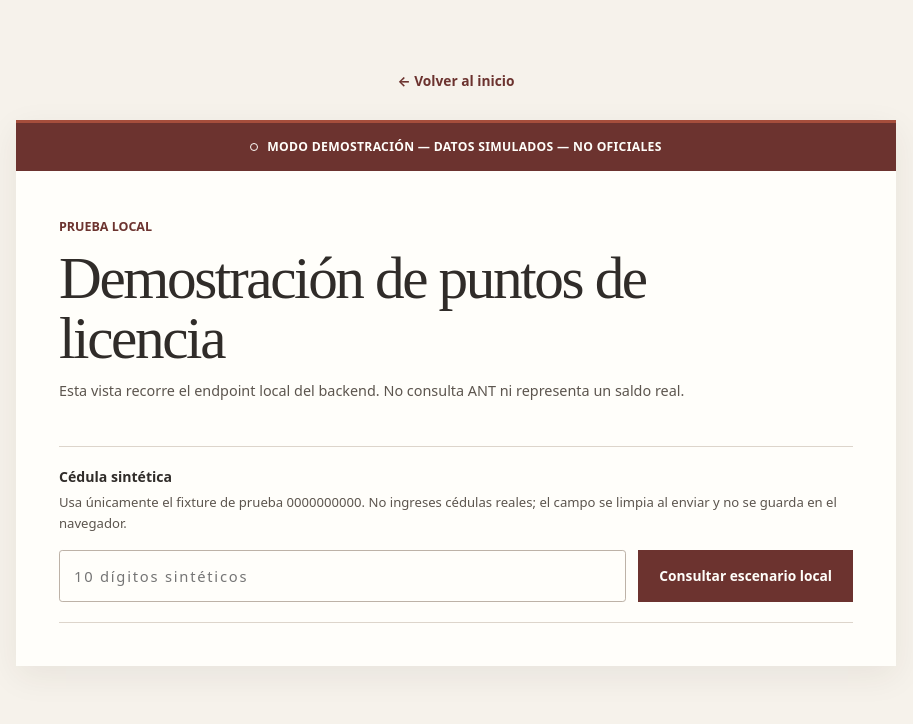
Test case: demostración local de puntos ANT › distingue un saldo cero válido de una respuesta sin información
Type "0000000000" into the field labelled "Cédula sintética" at (343, 576), box x1=59 y1=550 x2=626 y2=602
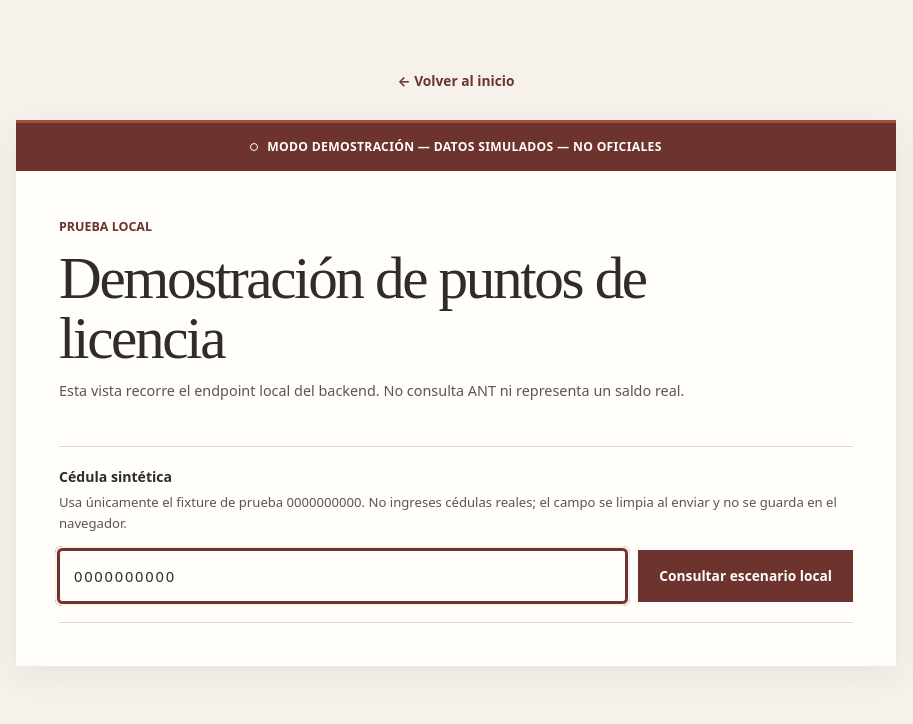
Click the button "Consultar escenario local" at (746, 576), box x1=638 y1=550 x2=853 y2=602
(page scrolled)
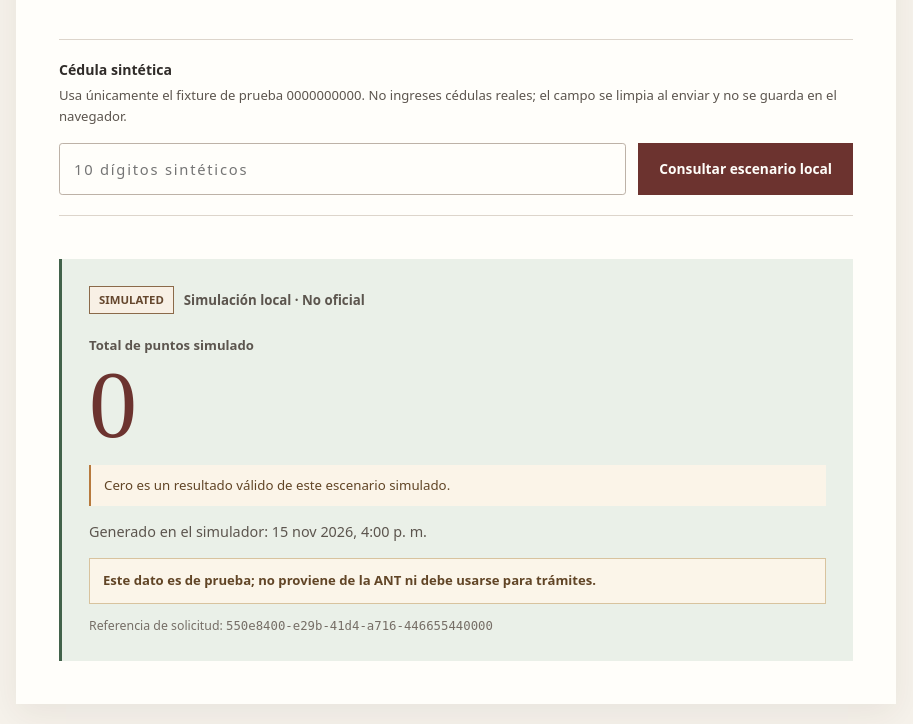
Result: the message named "Resultado simulado" shows "Total de puntos simulado" at x1=89 y1=336 x2=254 y2=354
Result: the text "0" is shown at x1=89 y1=352 x2=131 y2=458
Result: the message named "Resultado simulado" shows "Cero es un resultado válido" at x1=104 y1=476 x2=450 y2=494
